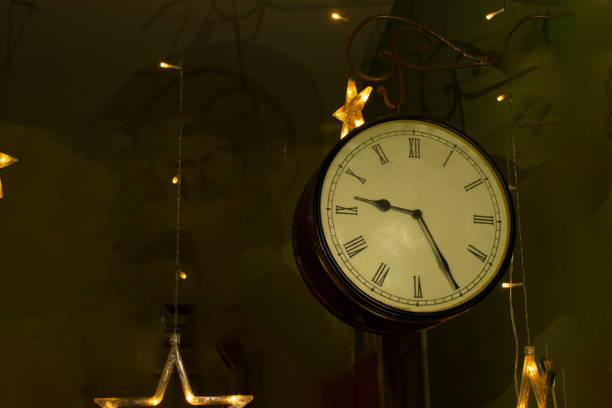clock: (316, 118, 515, 317)
